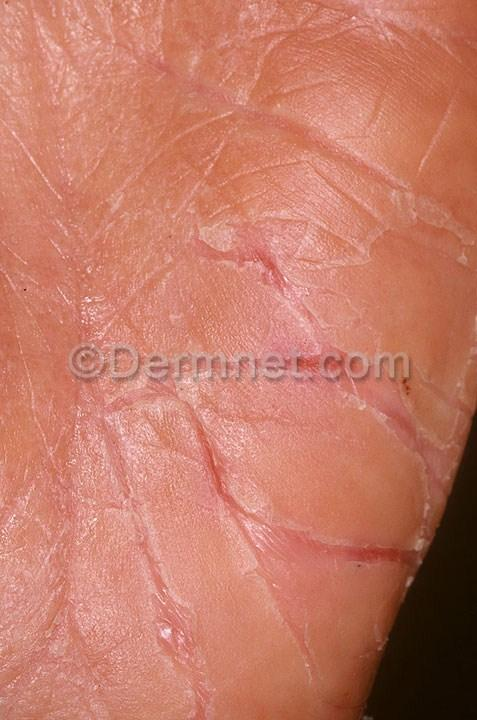Eczema: (42, 524, 173, 648), (0, 211, 146, 309), (240, 438, 338, 574), (43, 411, 153, 529), (0, 68, 138, 154), (155, 402, 247, 530), (226, 212, 314, 345), (196, 349, 325, 436), (17, 314, 138, 406), (303, 240, 405, 349), (366, 112, 453, 238), (326, 444, 418, 561), (317, 350, 427, 446), (272, 0, 353, 124), (183, 529, 264, 650), (148, 101, 237, 208), (227, 105, 309, 212), (360, 0, 443, 105), (193, 0, 273, 108), (310, 128, 382, 244), (407, 253, 477, 370), (105, 0, 192, 92), (4, 159, 148, 214), (0, 0, 104, 71), (252, 581, 332, 669), (122, 319, 202, 401), (435, 105, 477, 261), (0, 310, 42, 465), (88, 651, 185, 718), (178, 651, 272, 720), (153, 213, 218, 311), (0, 562, 46, 675), (1, 661, 89, 718), (334, 554, 408, 614), (439, 1, 477, 100), (422, 364, 468, 440), (7, 459, 37, 569), (280, 676, 347, 720), (413, 444, 452, 509), (337, 611, 383, 665)
